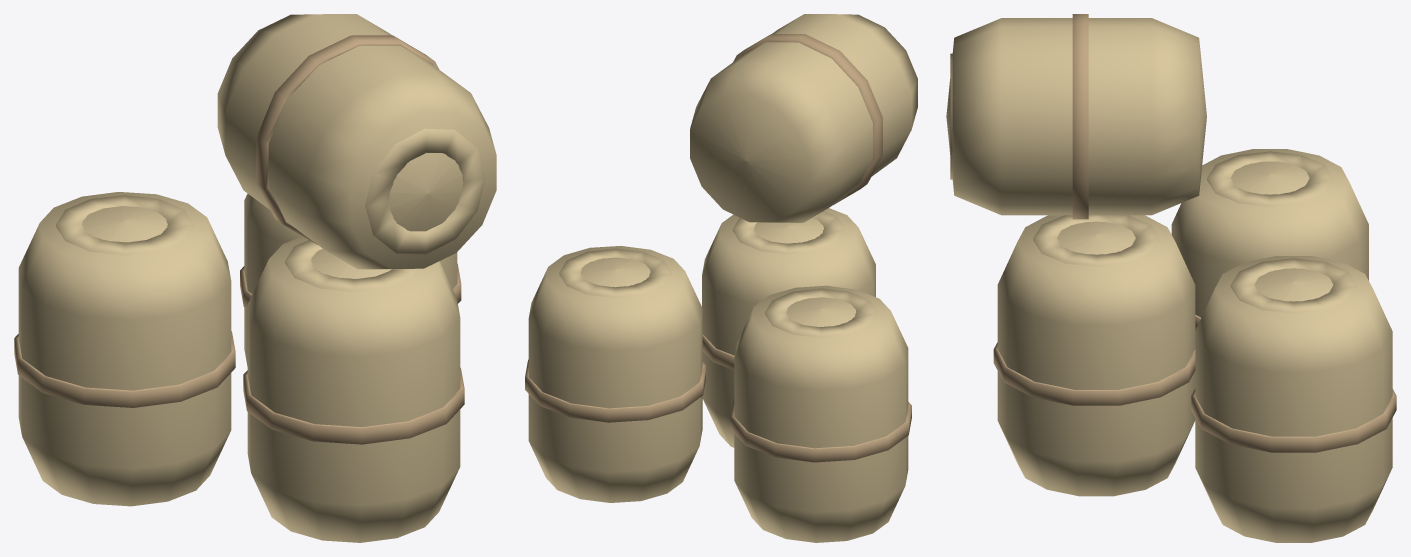
The model's file is korean-hanok-village-and-street-straw-rice-sack-stack-56a248a9__38081.glb.
3 views of the same model, side by side, from view 1: azimuth 30°, elevation 25°; view 2: azimuth 150°, elevation 25°; view 3: azimuth 270°, elevation 25° (orthographic). The views are drawn at different scales.
Visible parts, largest first — view 1: straw-rice-sack-stack; view 2: straw-rice-sack-stack; view 3: straw-rice-sack-stack.
Part boxes in pixels (x1,y1,x2,y2): straw-rice-sack-stack: (14, 14, 496, 542); straw-rice-sack-stack: (525, 14, 917, 542); straw-rice-sack-stack: (946, 14, 1396, 542).
Size of the model in its own units: 1.15 by 1.24 by 1.14.
